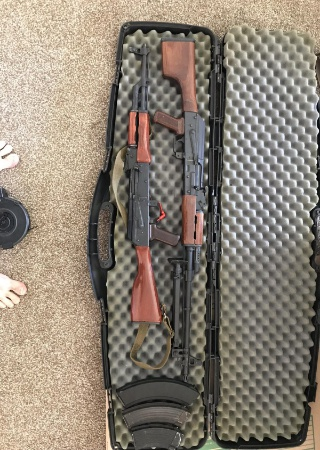rifle: (155, 30, 209, 379), (121, 31, 168, 330)
